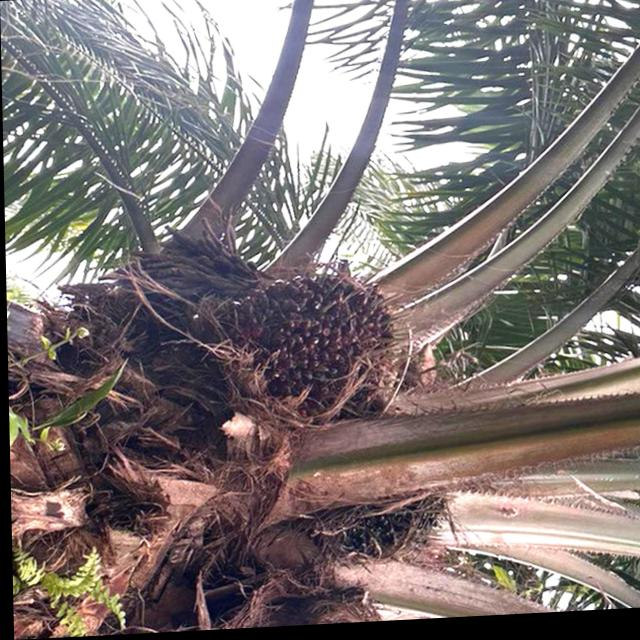ripe: (227, 252, 424, 435)
